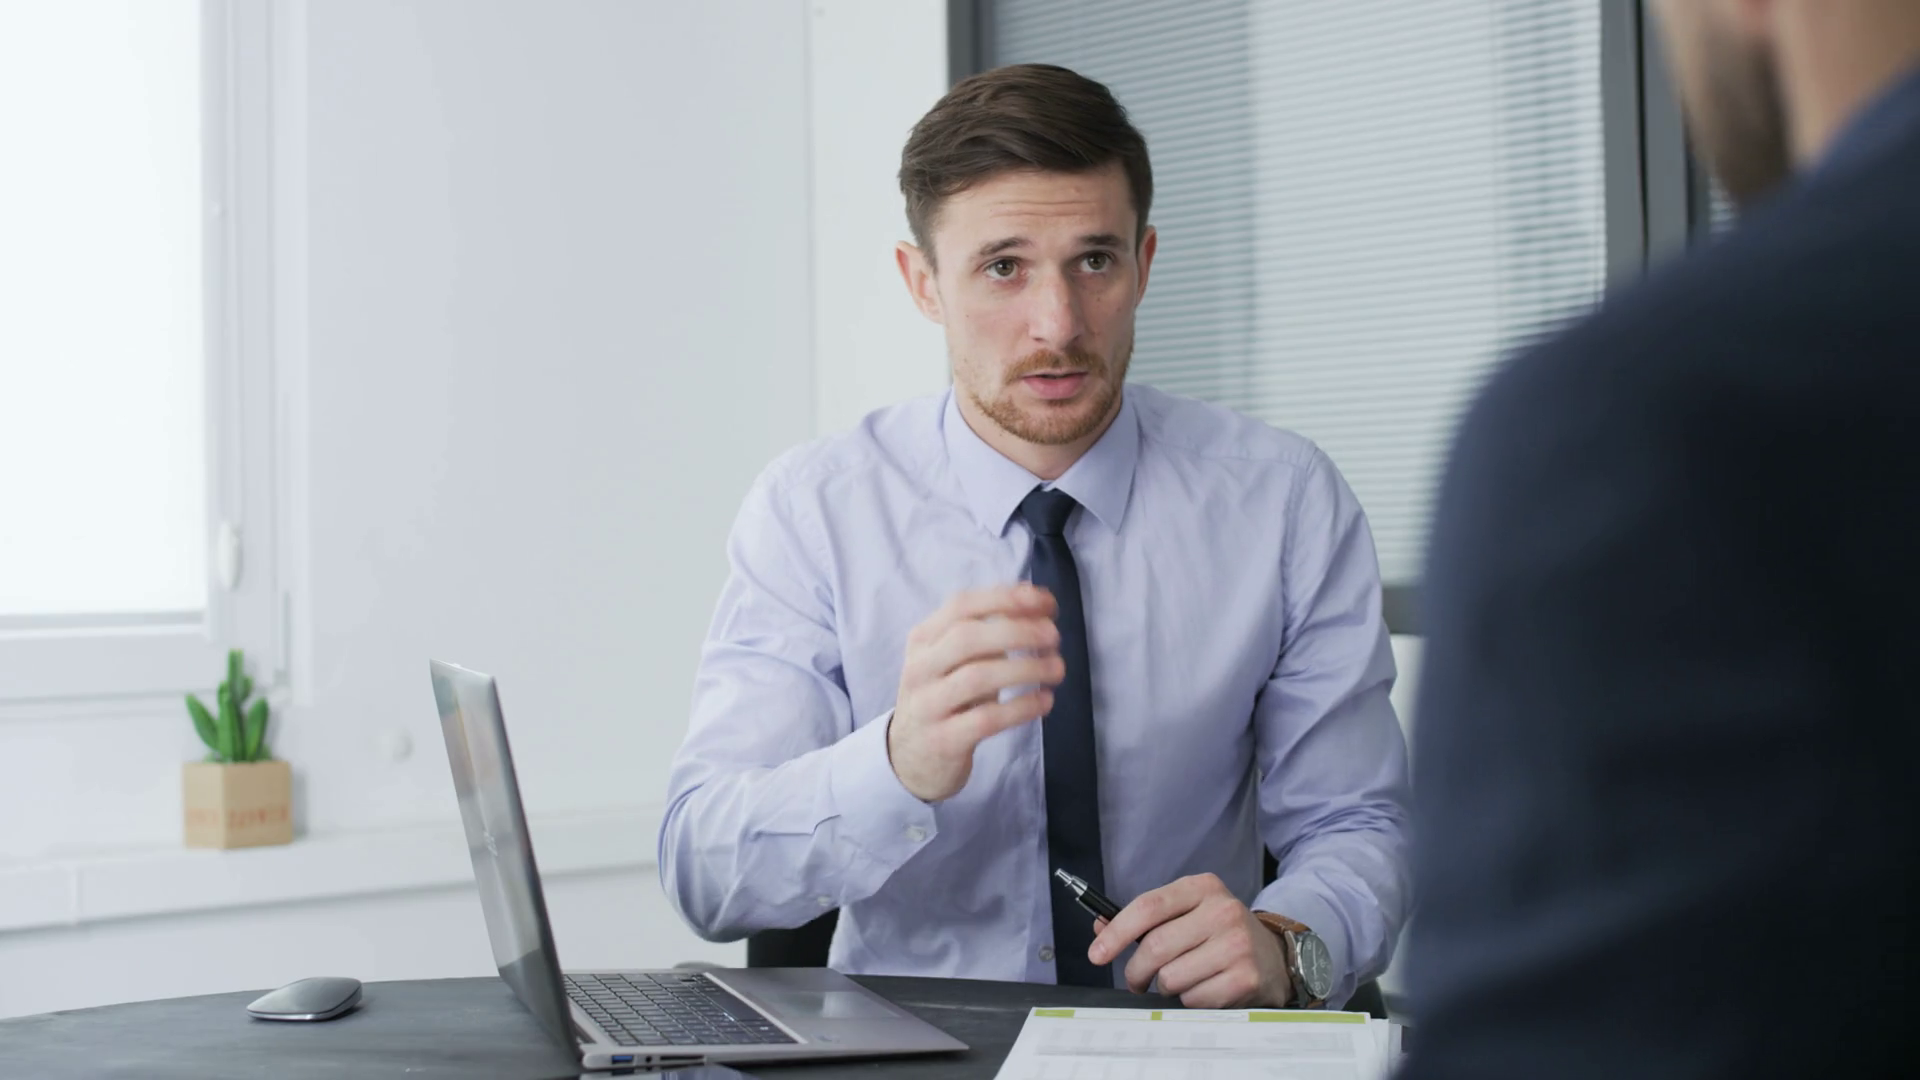human: (646, 56, 1422, 1021)
